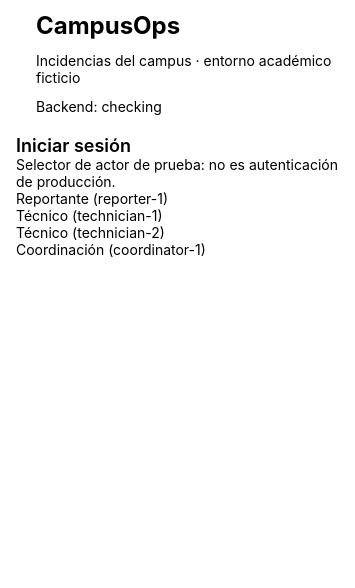
UI queues a local action without sending, shows note and explicitly synchronizes
Click the text "Técnico (technician-1)" at (89, 216), box [16,207,162,224]
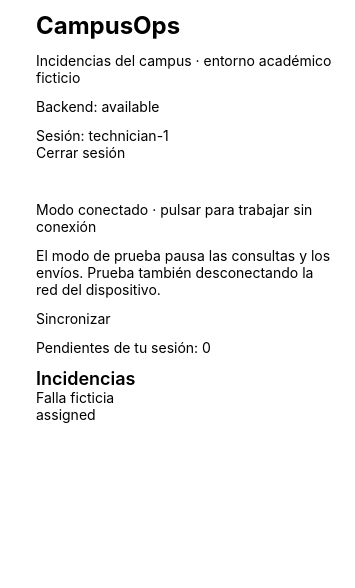
Expected: the text "Falla ficticia" is shown, [36,389,114,406]
Click the element with test id "incident-campus-inc-001" at (75, 406), box [36,389,114,423]
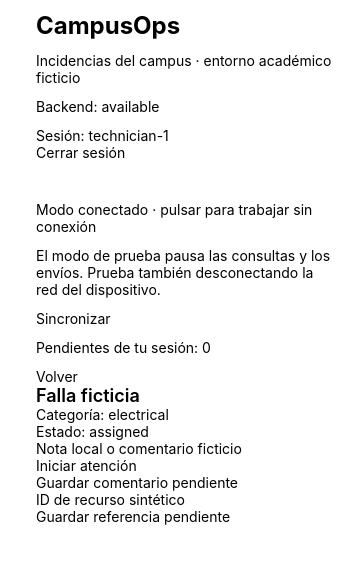
Type "Nota recuperable" into the field named "Nota o comentario" at (187, 448), box [36,440,338,457]
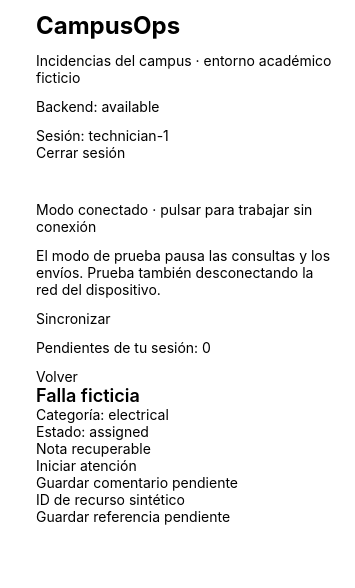
Click the text "Iniciar atención" at (86, 466), box [36,457,137,474]
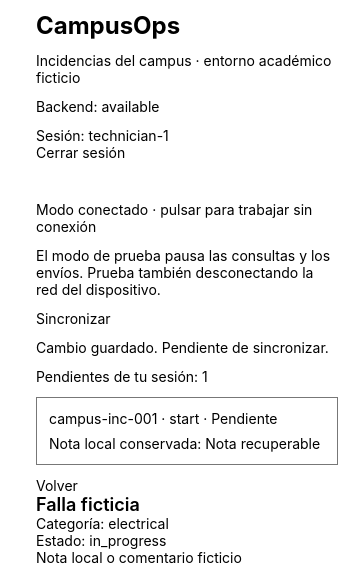
Expected: the text "Nota local conservada: Nota recuperable" is shown, [49,435,325,452]
Click the element with test id "sync-button" at (73, 318), box [36,310,111,327]
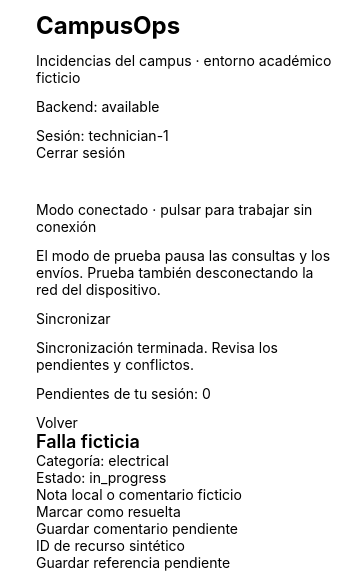
Expected: the text "Pendientes de tu sesión: 0" is shown, [36,385,211,402]
